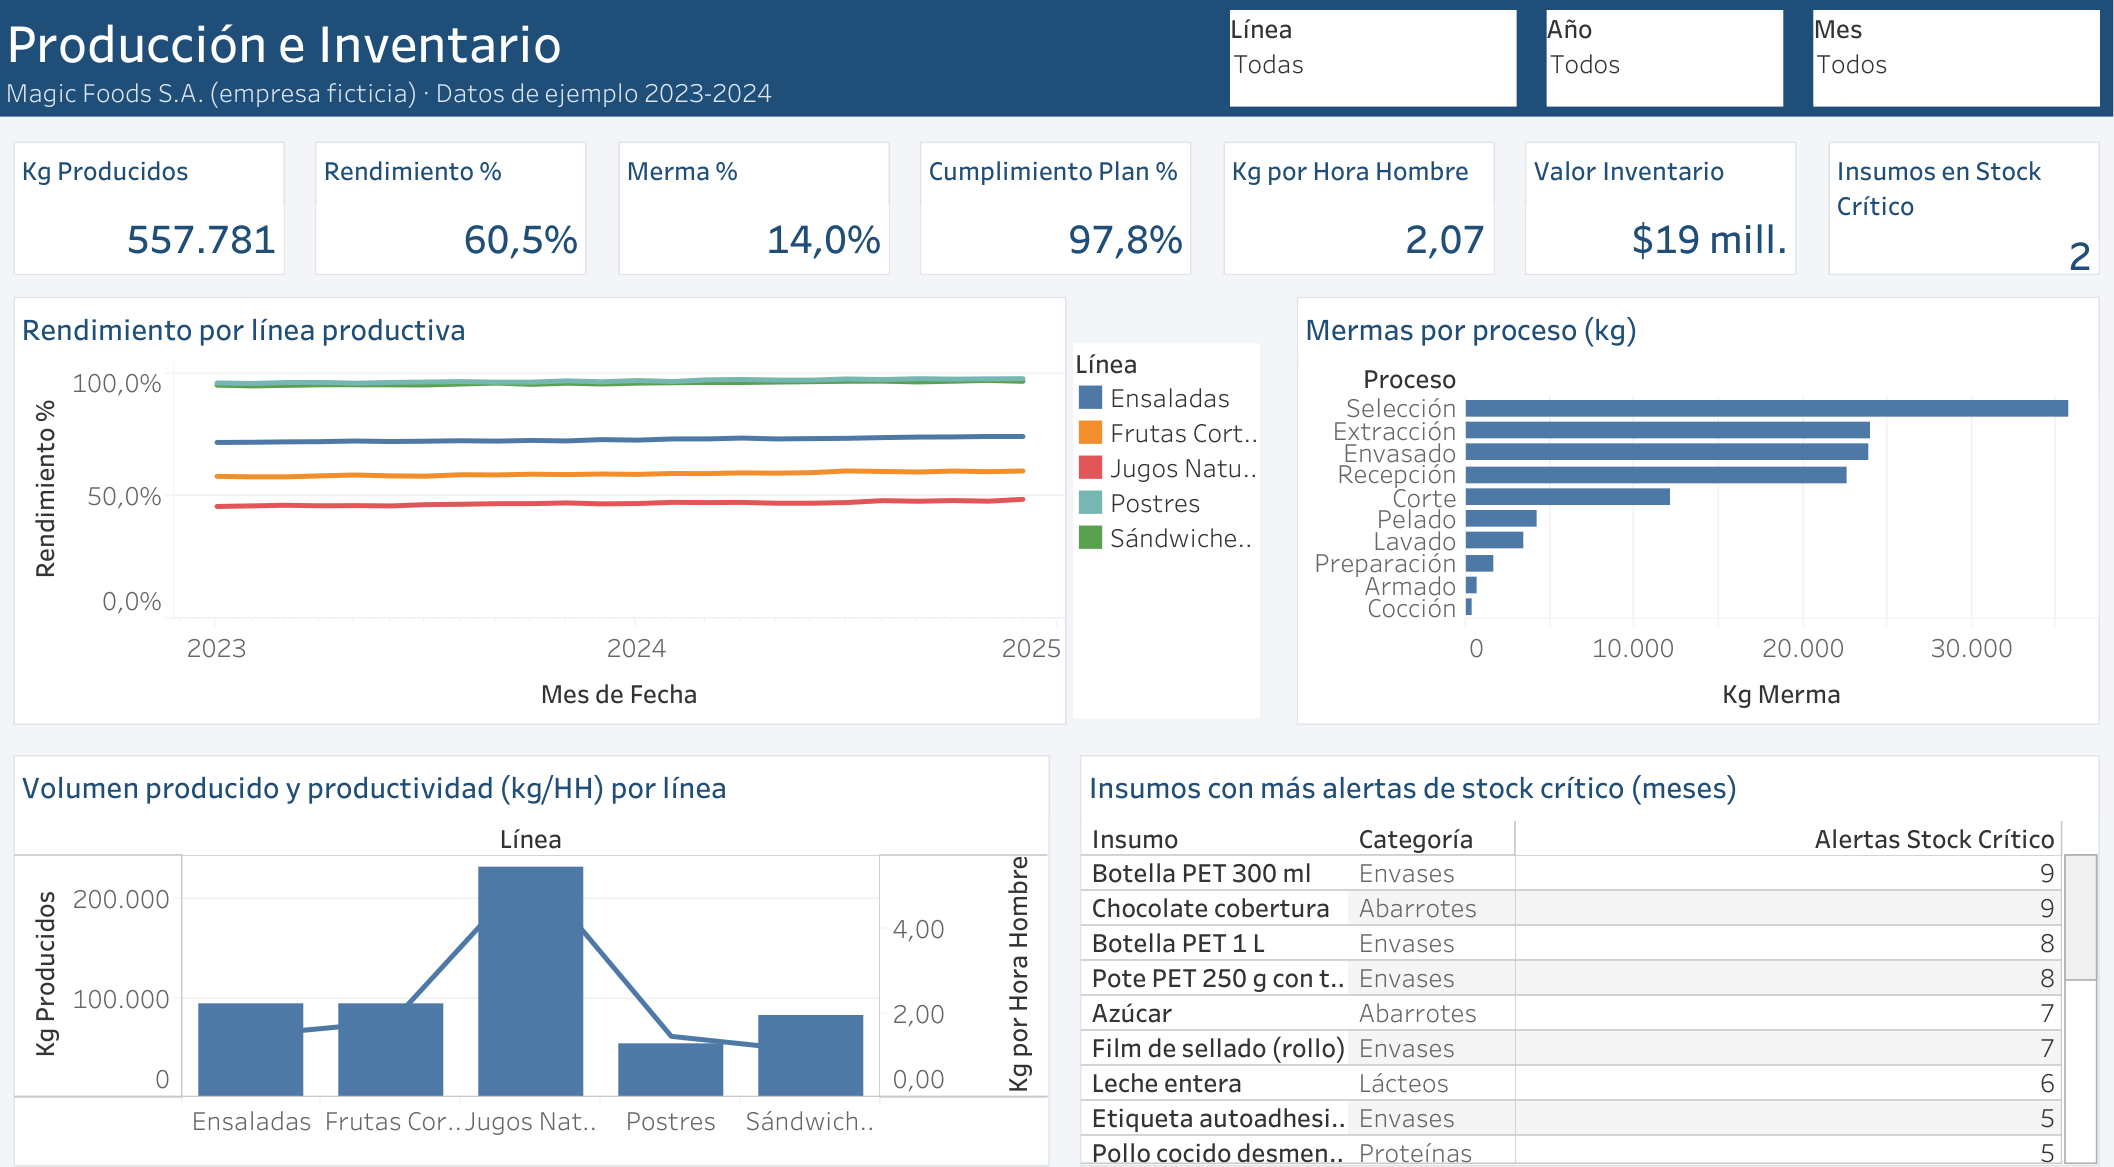

This screenshot's page, from the dashboard's own definition file:
{"tool":"tableau","page":{"name":"Producción e Inventario","canvas":[1280,720],"ordinal":4},"visuals":[{"type":"text","box":[0,0,1280,82]},{"type":"parameter","param":"[Parameters].[pLinea]","box":[740,8,180,66]},{"type":"parameter","param":"[Parameters].[pAnio]","box":[930,8,150,66]},{"type":"parameter","param":"[Parameters].[pMes]","box":[1090,8,180,66]},{"type":"worksheet","title":"P · Kg Producidos","mark":"Text","box":[10,87,171,88]},{"type":"worksheet","title":"P · Rendimiento","mark":"Text","box":[191,87,171,88]},{"type":"worksheet","title":"P · Merma","mark":"Text","box":[373,87,171,88]},{"type":"worksheet","title":"P · Cumplimiento","mark":"Text","box":[554,87,171,88]},{"type":"worksheet","title":"P · Kg por HH","mark":"Text","box":[736,87,171,88]},{"type":"worksheet","title":"P · Valor Inventario","mark":"Text","box":[917,87,171,88]},{"type":"worksheet","title":"P · Stock Critico","mark":"Text","box":[1099,87,171,88]},{"type":"worksheet","title":"P · Rendimiento Linea","mark":"Line","rows":["Rend"],"cols":["Fecha"],"box":[10,180,640,265]},{"type":"worksheet","title":"P · Mermas Proceso","mark":"Bar","rows":["Proceso"],"cols":["KgMermaT"],"box":[780,180,490,265]},{"type":"legend","title":"P · Rendimiento Linea","param":"[federated.e175fa7232627300eb4d42d0dfd2].[none:Linea:nk]","box":[650,212,112,225]},{"type":"worksheet","title":"P · Volumen y Productividad","mark":"Automatic","rows":["KgProdL","KgHH"],"cols":["Linea"],"box":[10,455,630,255]},{"type":"worksheet","title":"P · Insumos Alertas","mark":"Text","rows":["Descripcion","Categoria"],"box":[650,455,620,255]}]}

Visuals, with their boxes in screenshot pixels (x1, y1, x2, y2), scaled from the page's 1280x720 canvas onto the 2114x1167 screenshot:
text: region(0, 0, 2113, 133)
parameter: region(1222, 13, 1519, 120)
parameter: region(1536, 13, 1784, 120)
parameter: region(1800, 13, 2097, 120)
"P · Kg Producidos" worksheet (Text marks): region(17, 141, 299, 284)
"P · Rendimiento" worksheet (Text marks): region(315, 141, 598, 284)
"P · Merma" worksheet (Text marks): region(616, 141, 898, 284)
"P · Cumplimiento" worksheet (Text marks): region(915, 141, 1197, 284)
"P · Kg por HH" worksheet (Text marks): region(1216, 141, 1498, 284)
"P · Valor Inventario" worksheet (Text marks): region(1514, 141, 1797, 284)
"P · Stock Critico" worksheet (Text marks): region(1815, 141, 2097, 284)
"P · Rendimiento Linea" worksheet (Line marks): region(17, 292, 1074, 721)
"P · Mermas Proceso" worksheet (Bar marks): region(1288, 292, 2097, 721)
"P · Rendimiento Linea" legend: region(1074, 344, 1258, 708)
"P · Volumen y Productividad" worksheet: region(17, 737, 1057, 1151)
"P · Insumos Alertas" worksheet (Text marks): region(1074, 737, 2097, 1151)
